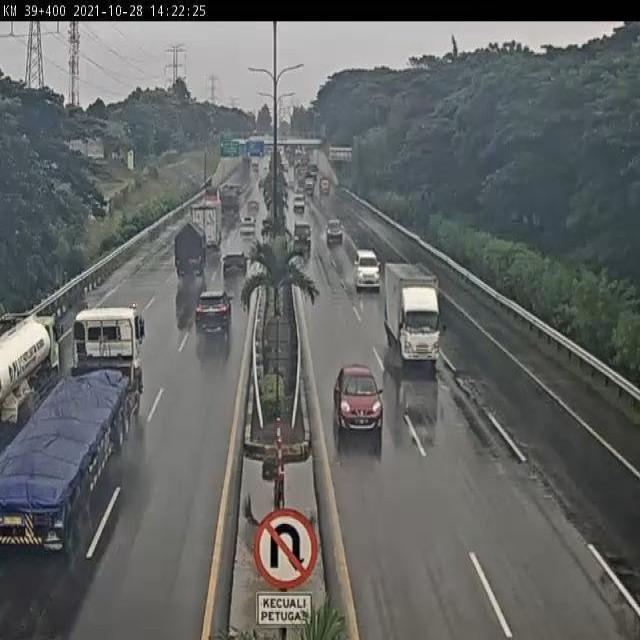car: (333, 362, 383, 438), (192, 290, 231, 342), (354, 250, 383, 290), (219, 250, 247, 286), (291, 220, 313, 255), (238, 212, 257, 239), (325, 218, 344, 245)
truck-l-: (182, 203, 221, 261)
truck-m-: (0, 311, 62, 421), (171, 219, 206, 276)
truck-s-: (382, 259, 443, 368)
truck-xl-: (0, 305, 145, 563)
